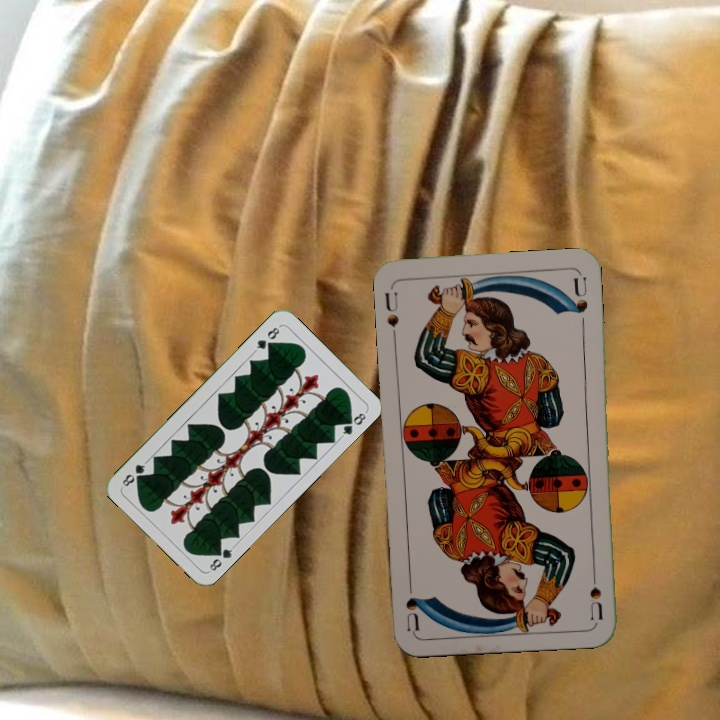G8: (251, 322, 283, 354), (205, 542, 238, 573)
SU: (585, 562, 606, 622), (381, 288, 401, 330)
